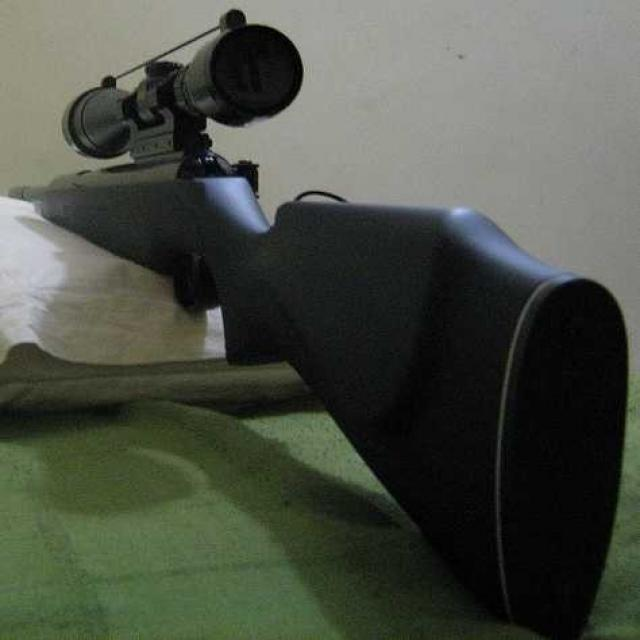weapon: (10, 1, 602, 640)
